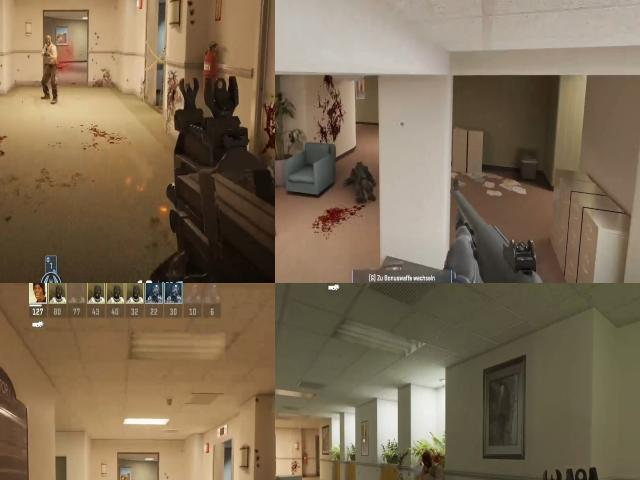Dead: (345, 150, 381, 209), (420, 451, 450, 480)
T: (40, 29, 59, 79), (120, 468, 136, 480)
T-Head: (44, 36, 54, 49), (120, 472, 131, 480)
